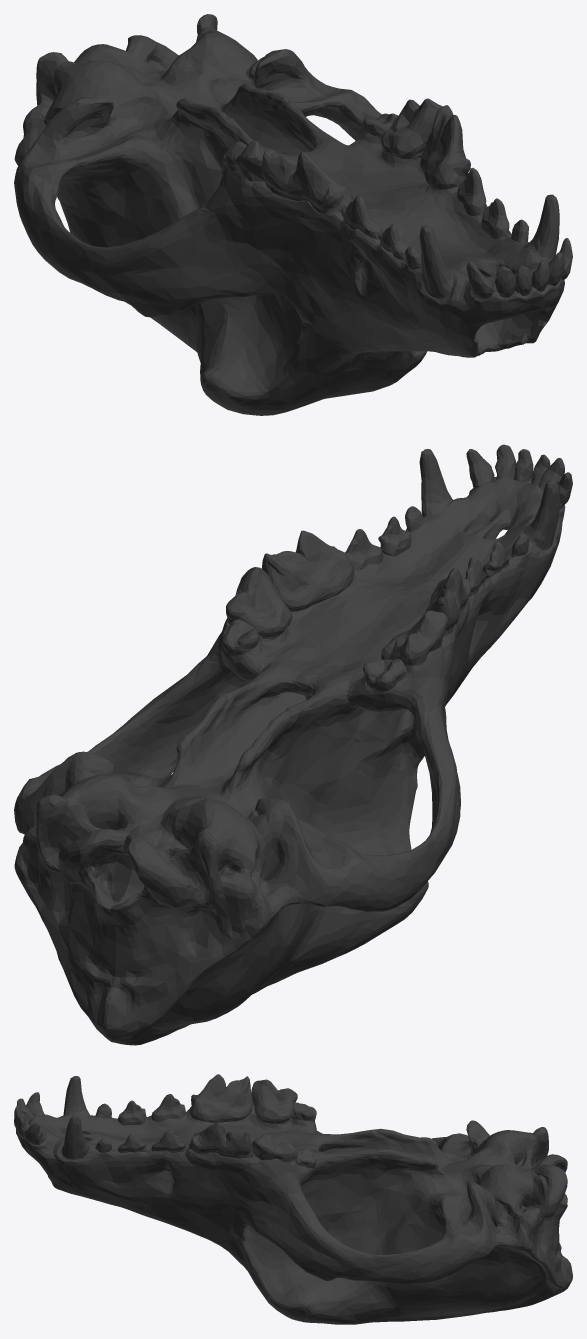
The model's file is b_cranium.glb.
The picture shows the model from 3 angles, top to bottom: view 1: azimuth 30°, elevation 25°; view 2: azimuth 150°, elevation 25°; view 3: azimuth 270°, elevation 25°; orthographic projection. The views are drawn at different scales.
Visible parts, largest first — view 1: b_cranium; view 2: b_cranium; view 3: b_cranium.
Part boxes in pixels (left/top/right/bottom): b_cranium: left=14, top=14, right=572, bottom=415; b_cranium: left=14, top=444, right=572, bottom=1045; b_cranium: left=14, top=1074, right=572, bottom=1324.
Bounding box in the file's own units: 0.0281 × 0.0253 × 0.0575.
1 material, 1 textured.
